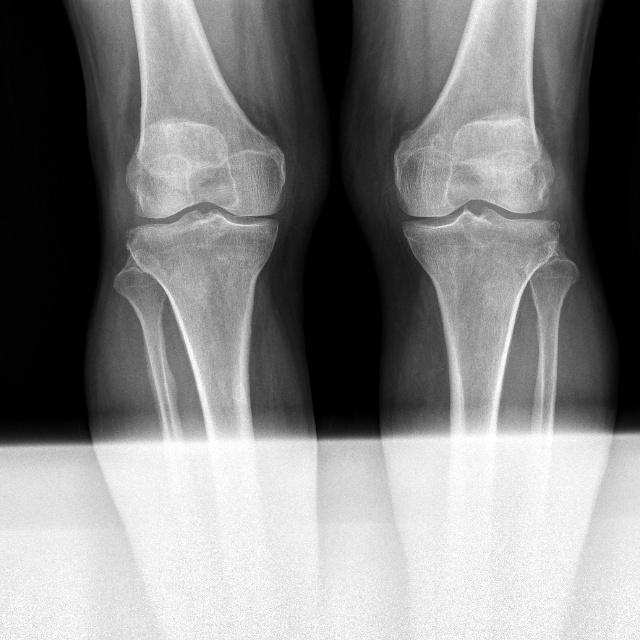Knee: (387, 140, 558, 277), (122, 142, 287, 270)
